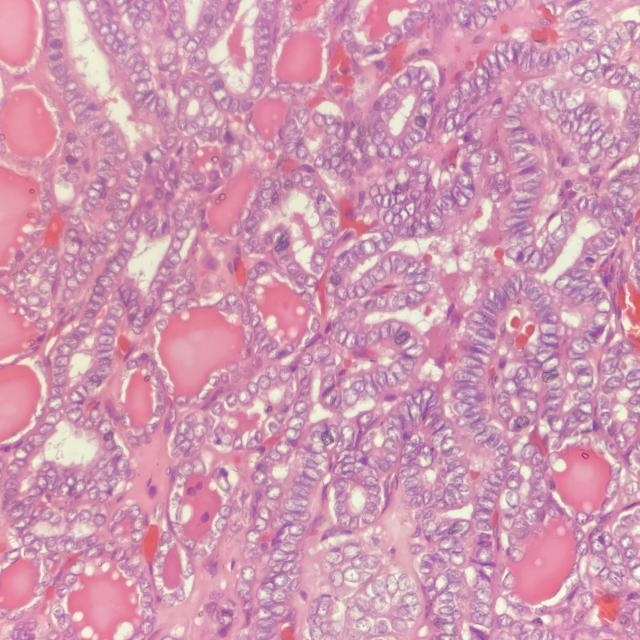TC: (302, 313, 326, 336), (222, 287, 243, 312), (272, 248, 297, 269), (405, 286, 427, 309), (375, 286, 392, 315), (149, 319, 171, 341), (155, 297, 177, 318), (394, 334, 418, 353), (332, 281, 350, 306), (170, 391, 193, 410), (358, 239, 377, 261), (285, 413, 308, 431), (236, 387, 254, 409), (299, 349, 317, 371), (263, 341, 281, 363), (459, 355, 484, 370), (469, 332, 491, 349), (357, 409, 376, 428), (398, 356, 417, 375), (255, 374, 273, 394), (165, 250, 183, 270), (411, 399, 423, 429), (343, 329, 359, 351), (355, 280, 369, 303), (372, 261, 386, 283), (367, 326, 381, 348), (292, 271, 310, 288), (350, 378, 367, 396), (308, 251, 325, 269), (192, 422, 208, 441), (467, 310, 486, 326), (384, 368, 397, 390), (195, 387, 210, 403)
